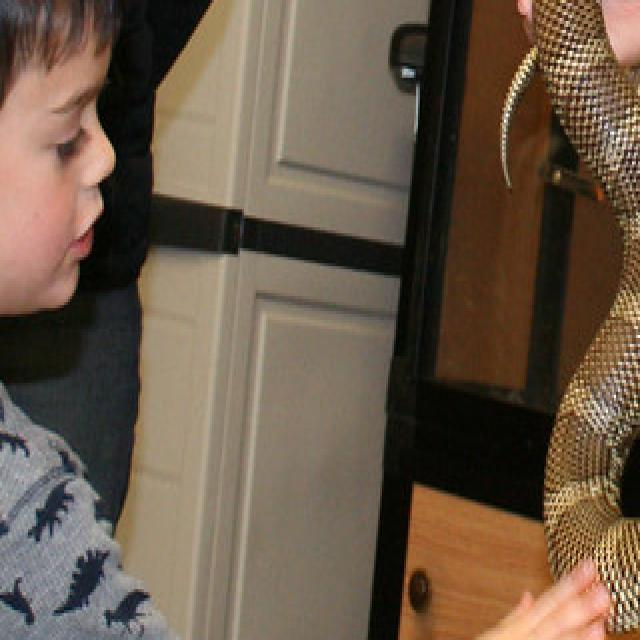snake: (496, 0, 640, 637)
